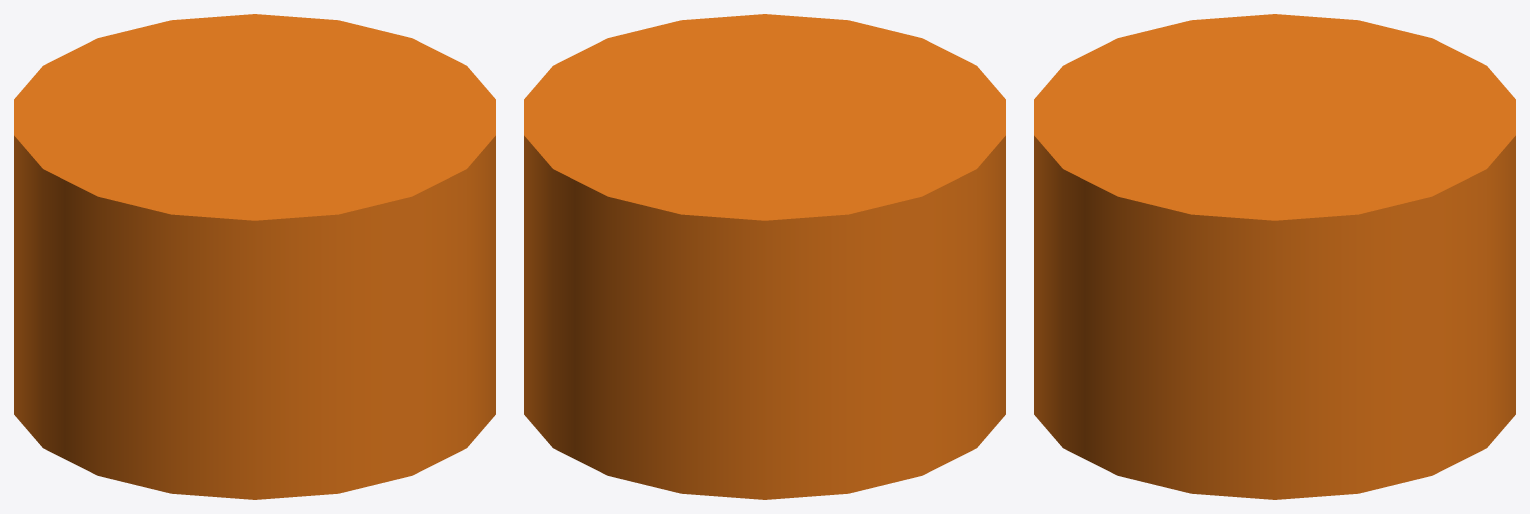
Rendered from Mesh_stackBatterie.fbx.
The picture shows the model from 3 angles, left to right: view 1: azimuth 30°, elevation 25°; view 2: azimuth 150°, elevation 25°; view 3: azimuth 270°, elevation 25°; orthographic projection.
Visible parts, largest first — view 1: stack_energie; view 2: stack_energie; view 3: stack_energie.
Boxes of the visible parts, left/top/right/bottom form: stack_energie: left=14, top=14, right=495, bottom=499; stack_energie: left=524, top=14, right=1005, bottom=499; stack_energie: left=1034, top=14, right=1515, bottom=499.
Bounding box in the file's own units: 80.19 × 78.97 × 50.49.
